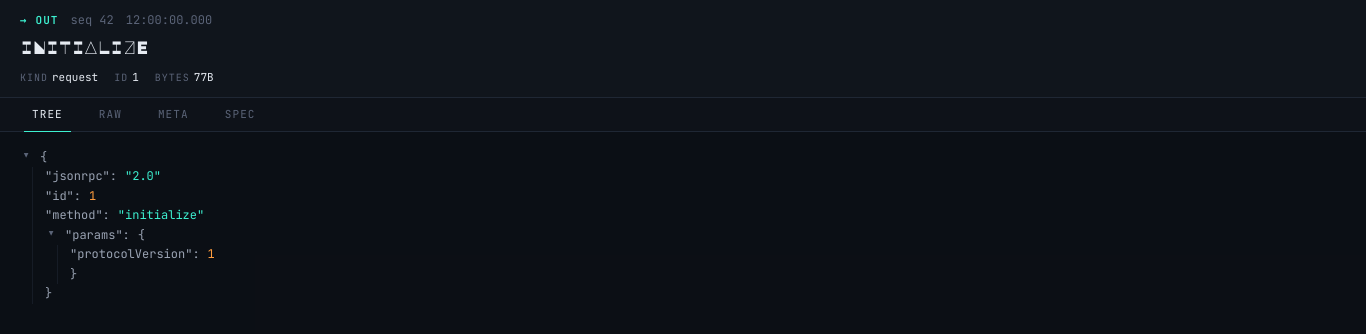
Test case: DetailPanel — tab switching › clicking Meta switches to meta view with seq/direction/kind rows
Click the button "Meta": coordinates (173, 114) 142,98 -> 205,130
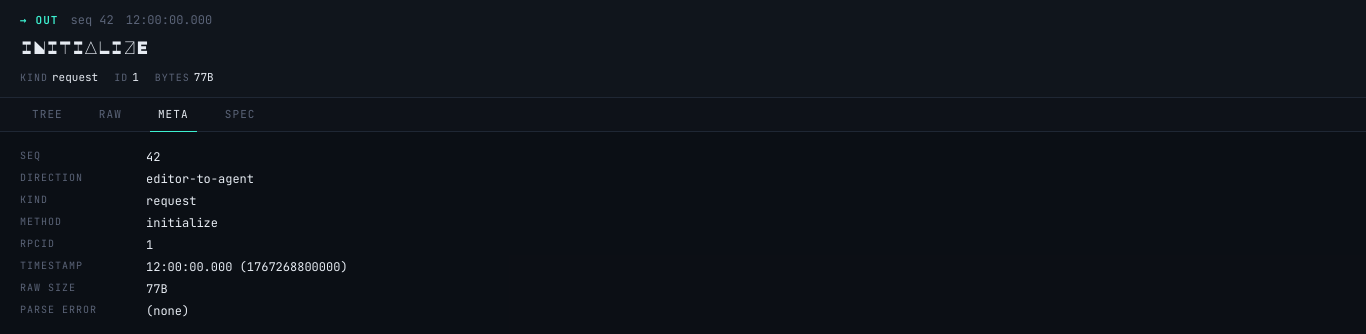
Expected: the text "42" is shown, 146,148 -> 160,164
Expected: the text "editor-to-agent" is shown, 146,170 -> 254,186
